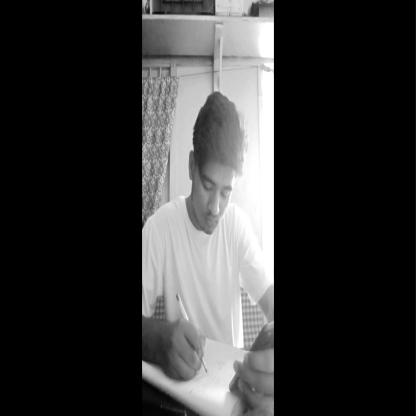Distracted: (198, 160, 232, 232)
